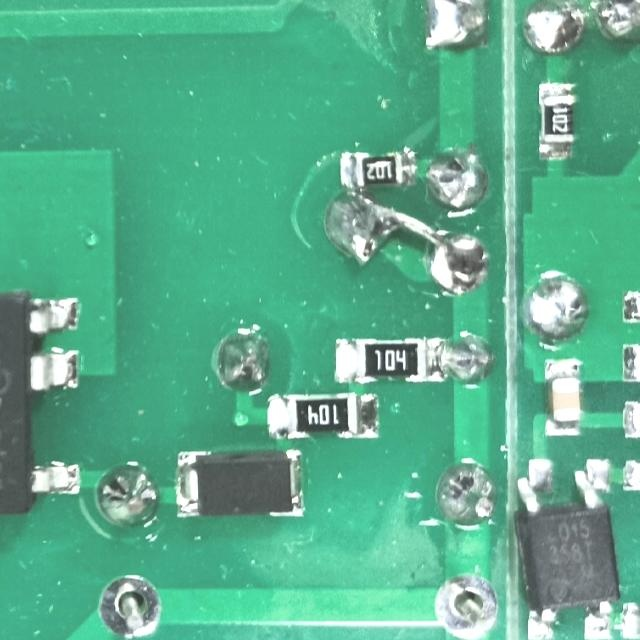chip-capacitor: (542, 355, 582, 437)
chip-resistor: (264, 392, 381, 440), (334, 337, 447, 384), (537, 79, 578, 161), (338, 149, 416, 187)
diode: (174, 448, 306, 519)
ic: (515, 454, 617, 640)
